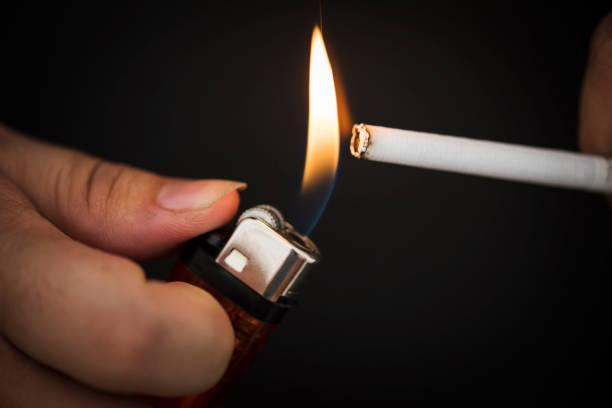Fire: (305, 18, 357, 233)
